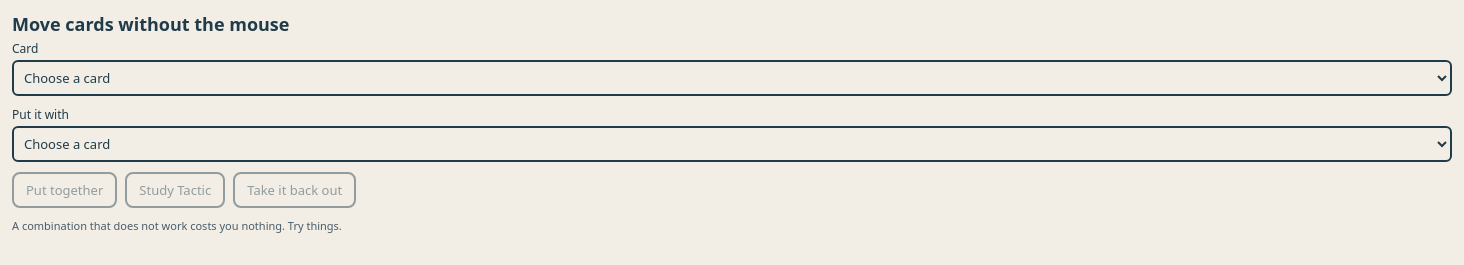
Test: AccessibleCardControls › says who can study a Tactic instead of only refusing the wrong staffer
Select "Working Bill" in the dropdown with test id "controls-source" at point(732, 78), box [12,60,1452,96]
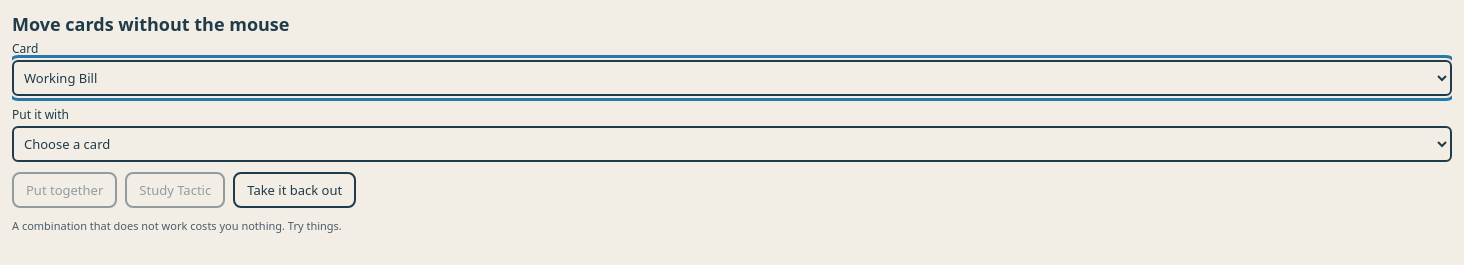
Select "Bipartisan Working Group" in the dropdown with test id "controls-target" at point(732, 144), box [12,126,1452,162]
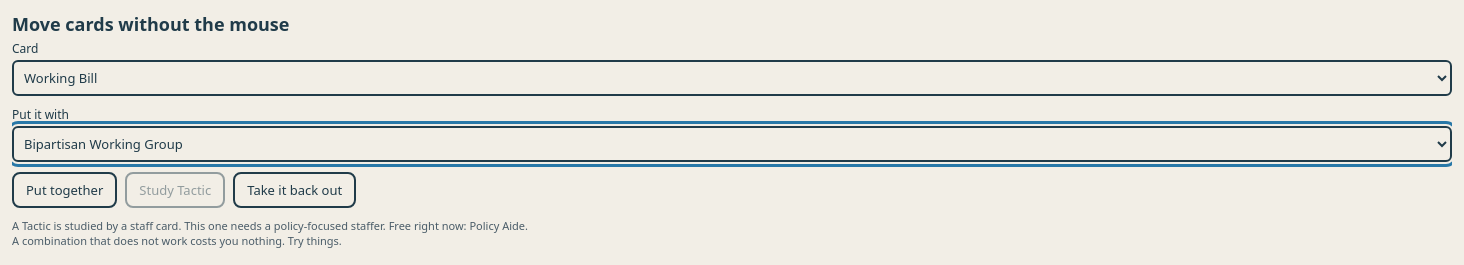
Check: the button with test id "controls-study" is disabled, box [125,172,225,208]
Check: the text with test id "controls-study-note" shows "policy-focused", box [12,218,528,233]
Check: the text with test id "controls-study-note" shows "Policy Aide", box [12,218,528,233]
